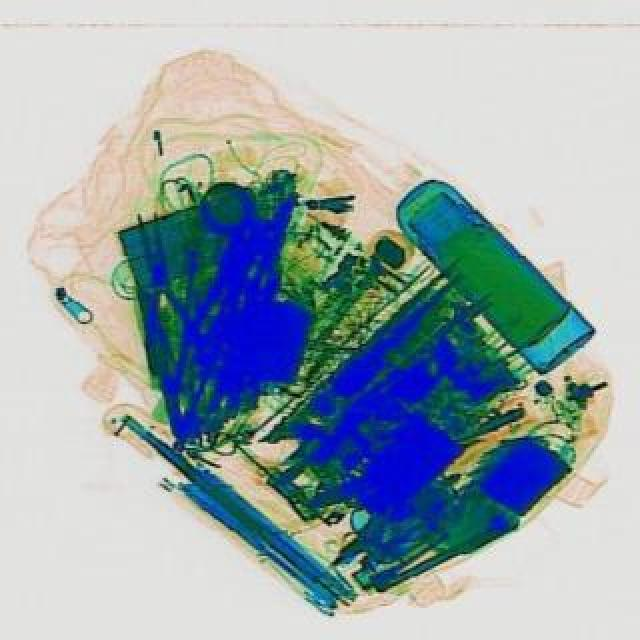wrench: (120, 208, 212, 368)
